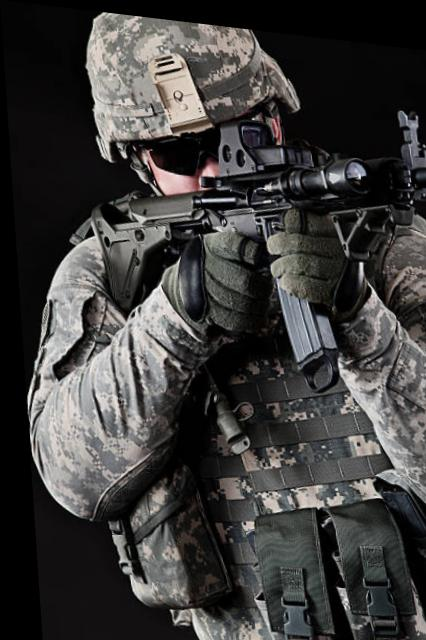other: (2, 0, 424, 640)
